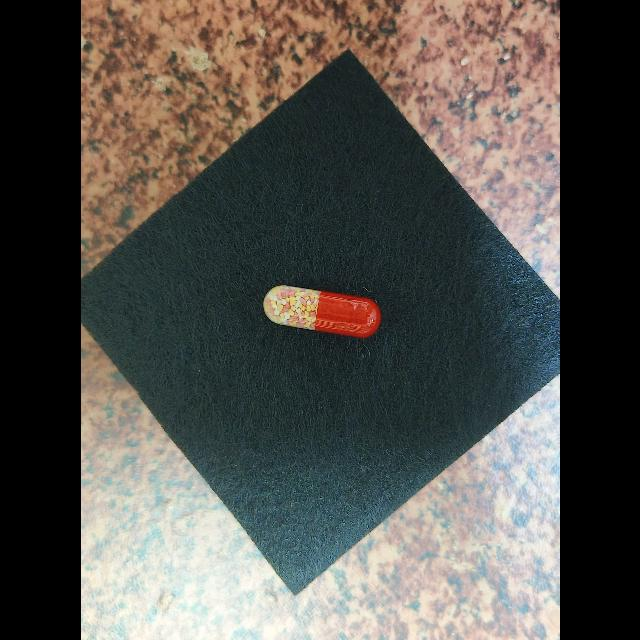Intact Capsule: (263, 285, 381, 338)
